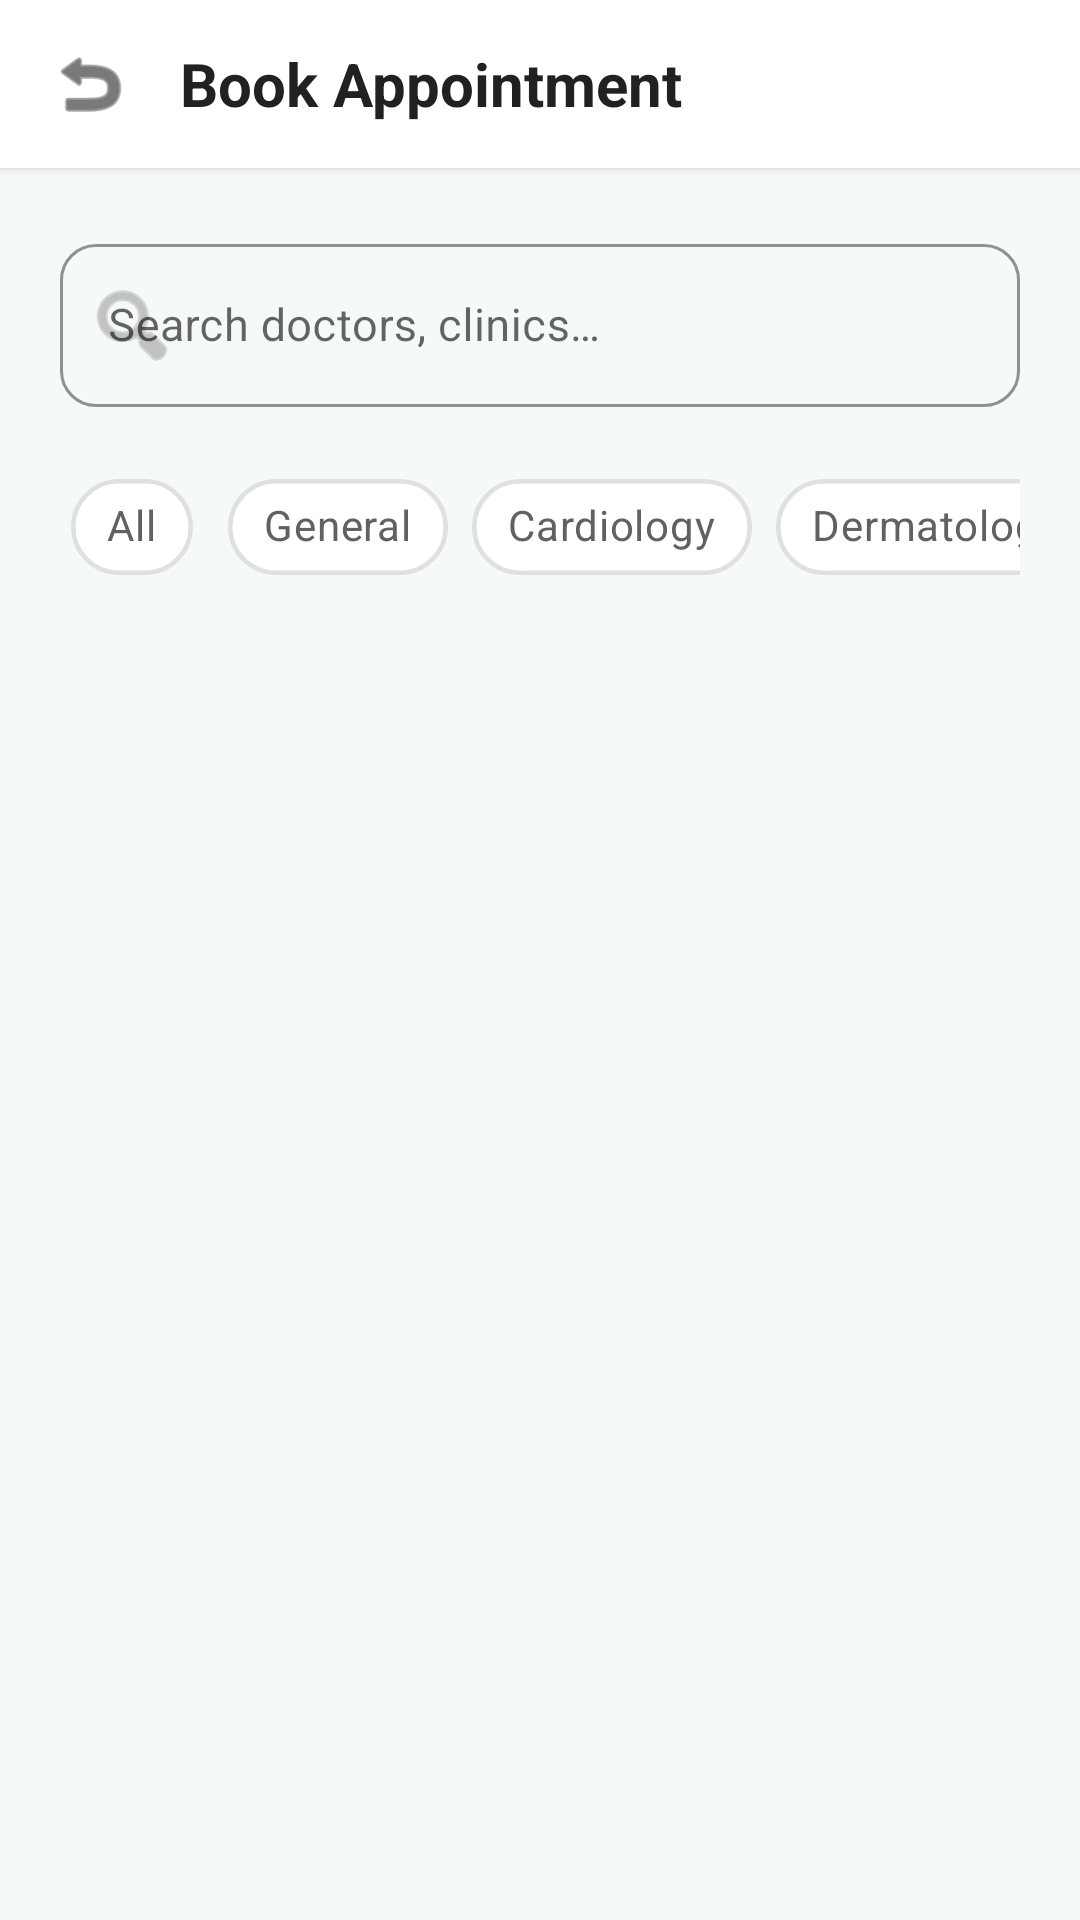

Named icons in this screenshot (1080px x 1920px) and their centers, point (x, y):
Back: point (91, 84)
